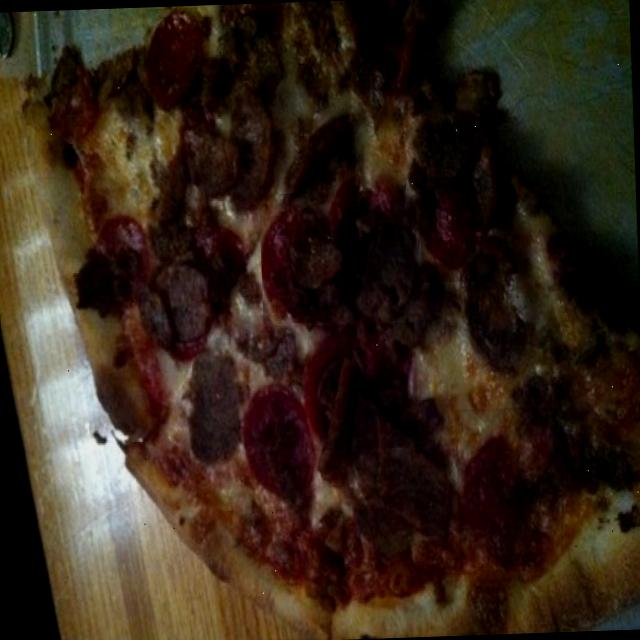pepperoni: (307, 320, 418, 450), (454, 406, 542, 568), (240, 382, 314, 508), (260, 191, 330, 323), (142, 6, 210, 109), (418, 175, 477, 282), (190, 215, 253, 314), (96, 200, 154, 303), (160, 288, 211, 372)
pizza: (24, 0, 640, 636)
